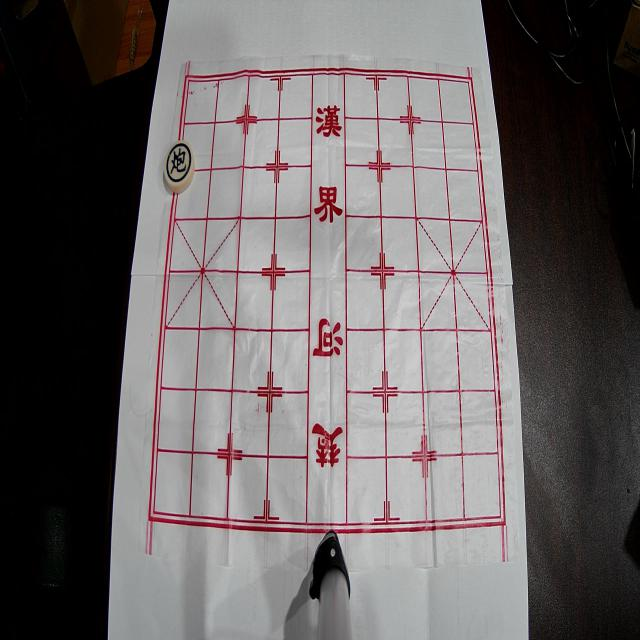black-cannon: (164, 140, 195, 193)
